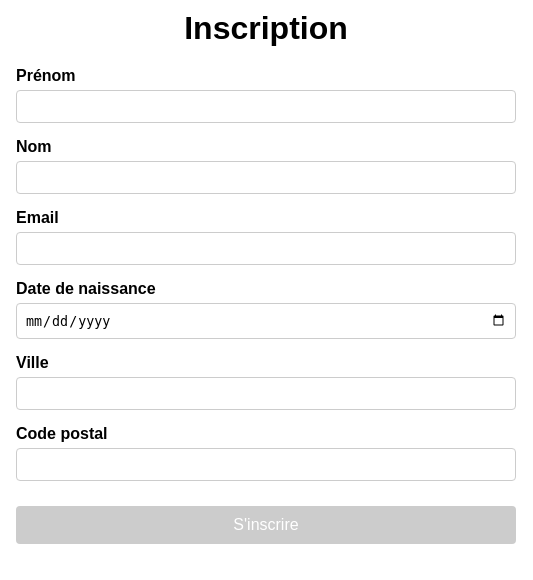
Scenario: Formulaire d'inscription › affiche une erreur si l'email est invalide
Step 1. Type "pasunmail" into the field with test id "email" → {"x": 266, "y": 249}, box x1=16 y1=232 x2=516 y2=265
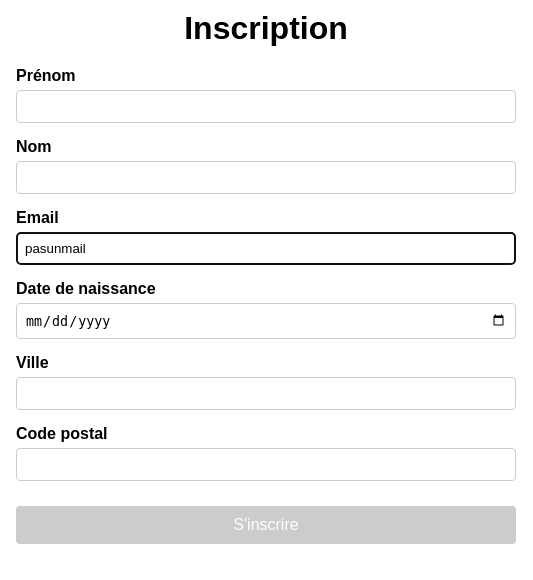
Step 2. Leave the field with test id "email", box x1=16 y1=232 x2=516 y2=265
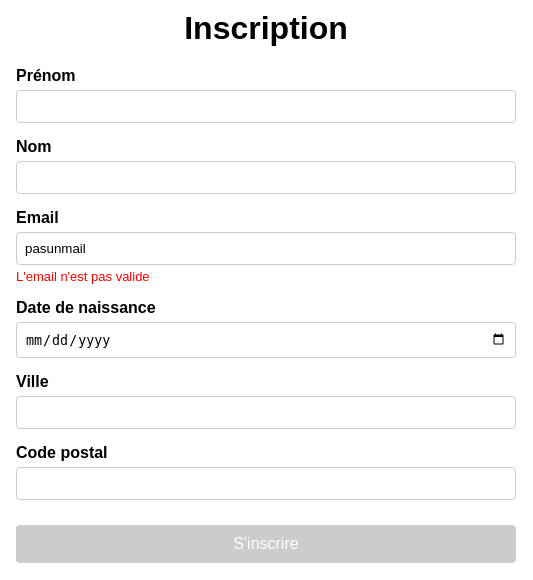
expect the text with test id "error-email" reads "L'email n'est pas valide": met, box x1=16 y1=269 x2=150 y2=284
